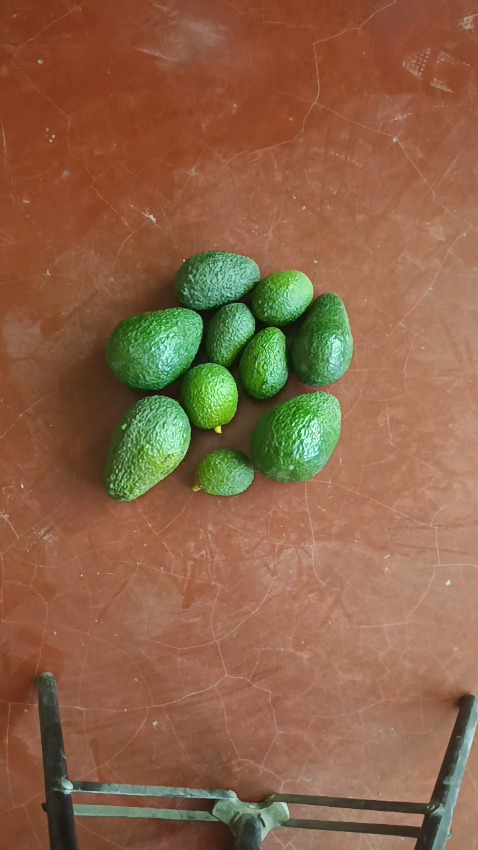Primera: (101, 395, 190, 499), (104, 308, 204, 392), (250, 391, 341, 482)
Segunda: (289, 292, 352, 386), (174, 250, 261, 311)
Tercera: (180, 362, 238, 430), (249, 270, 313, 327), (238, 327, 288, 399), (204, 301, 256, 368), (193, 449, 254, 496)
